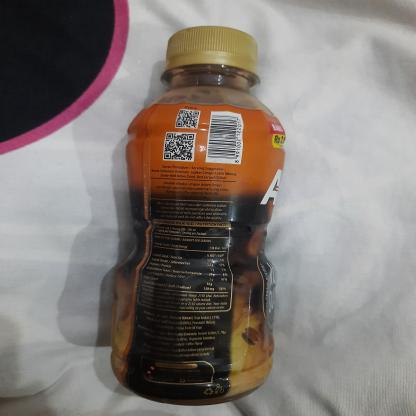plastic: (108, 23, 290, 409)
